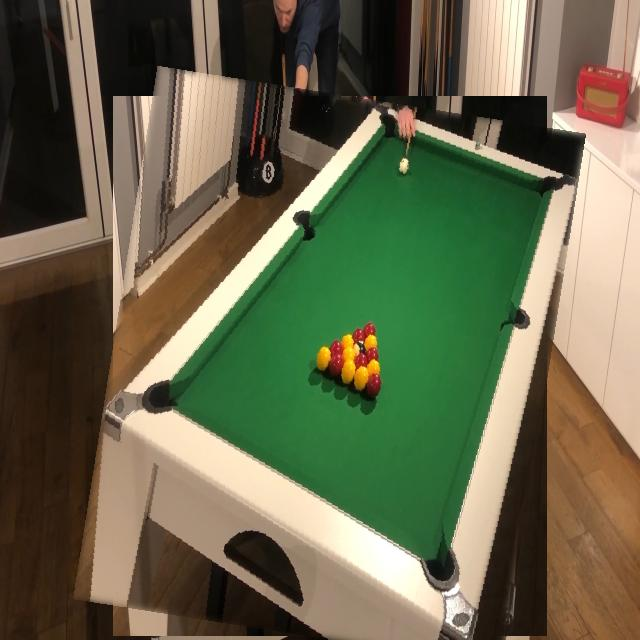Ball: (303, 355, 319, 382), (329, 348, 345, 372), (276, 365, 290, 390), (291, 360, 303, 386), (318, 351, 330, 375), (293, 347, 307, 362), (279, 352, 293, 366), (290, 316, 303, 331), (287, 328, 299, 344), (310, 331, 322, 347), (307, 343, 319, 359), (297, 335, 310, 349), (300, 323, 312, 338), (320, 339, 332, 354), (284, 340, 296, 354), (283, 148, 293, 164)
Billiard table: (93, 81, 566, 640)
